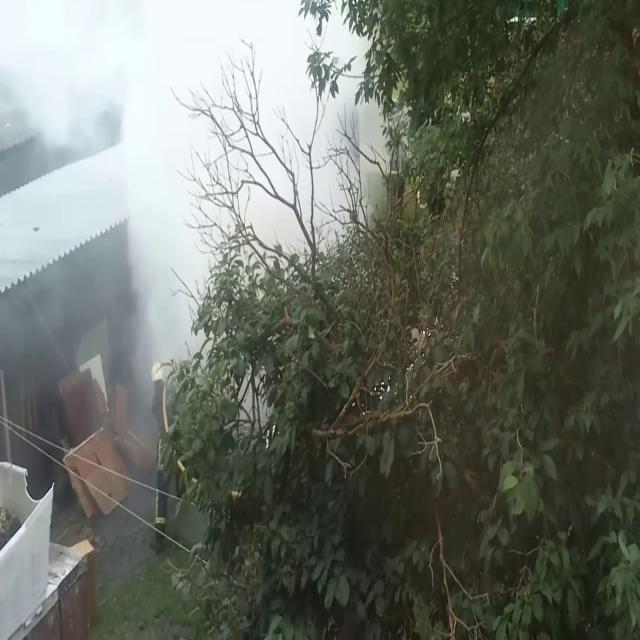Smoke: (94, 230, 168, 526)
